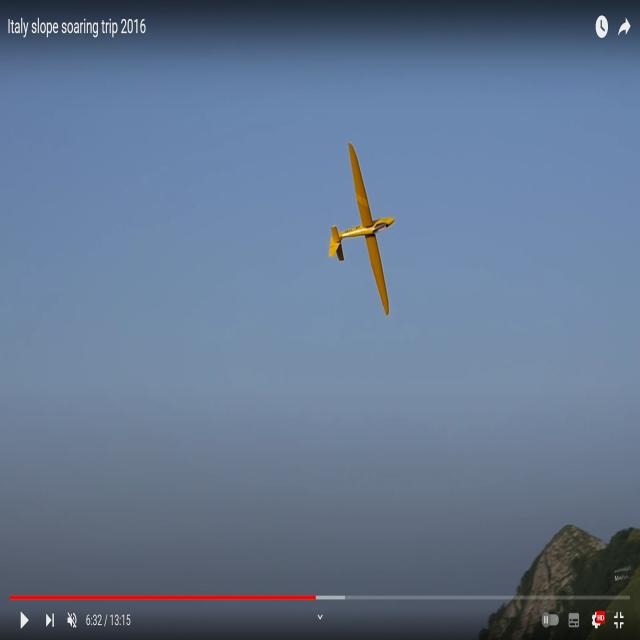iha: (361, 146, 364, 314)
